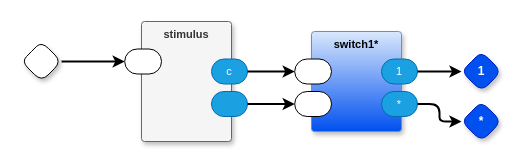
The diagram is 525 pixels wide and 166 high, and some of its shapes have lost their labels. The shapes that lost their labels are listed below. From the top down, each one's centre as x and y in pixels, then its label:
At point (229, 103): "fini".
At point (313, 103): "reset".
